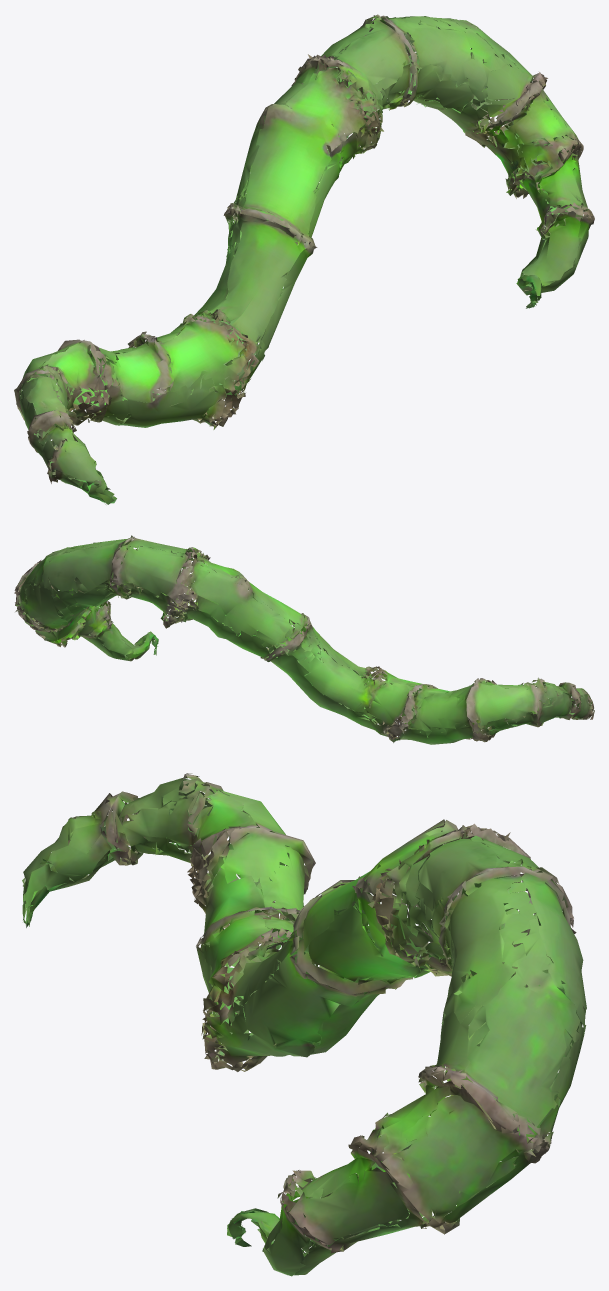
File: cow-tail.glb
3 views of the same model, one above another, from view 1: azimuth 30°, elevation 25°; view 2: azimuth 150°, elevation 25°; view 3: azimuth 270°, elevation 25° (orthographic). The views are drawn at different scales.
Visible parts, largest first — view 1: Mesh_0.001; view 2: Mesh_0.001; view 3: Mesh_0.001.
Boxes of the visible parts, box(x1,y1,x2,y2) form: Mesh_0.001: box(14, 14, 594, 504); Mesh_0.001: box(14, 535, 594, 744); Mesh_0.001: box(22, 773, 586, 1276).
Bounding box in the file's own units: 1.99 × 0.7954 × 1.03.
1 material, 1 textured.
